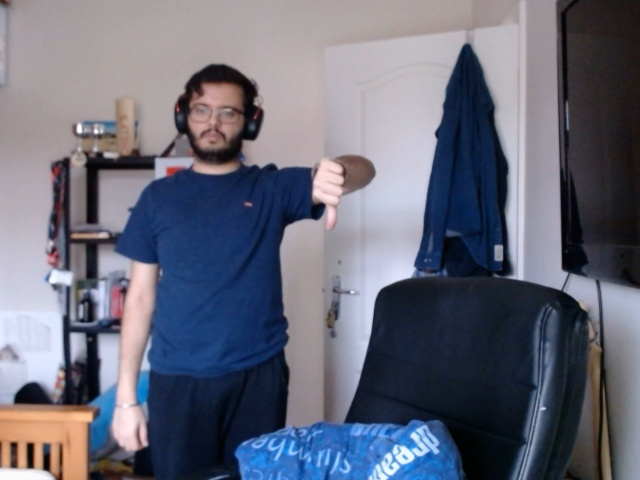Thumbs down: (309, 150, 353, 234)
